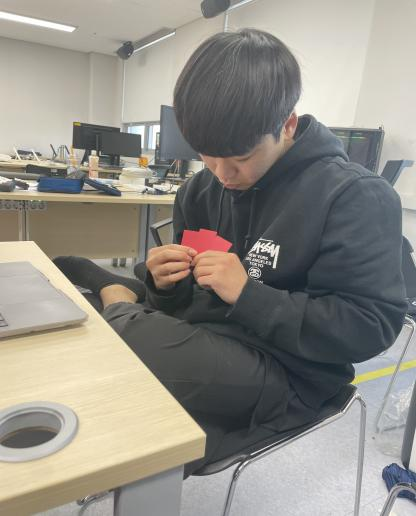ThreeHwatoo: (176, 218, 237, 256)
